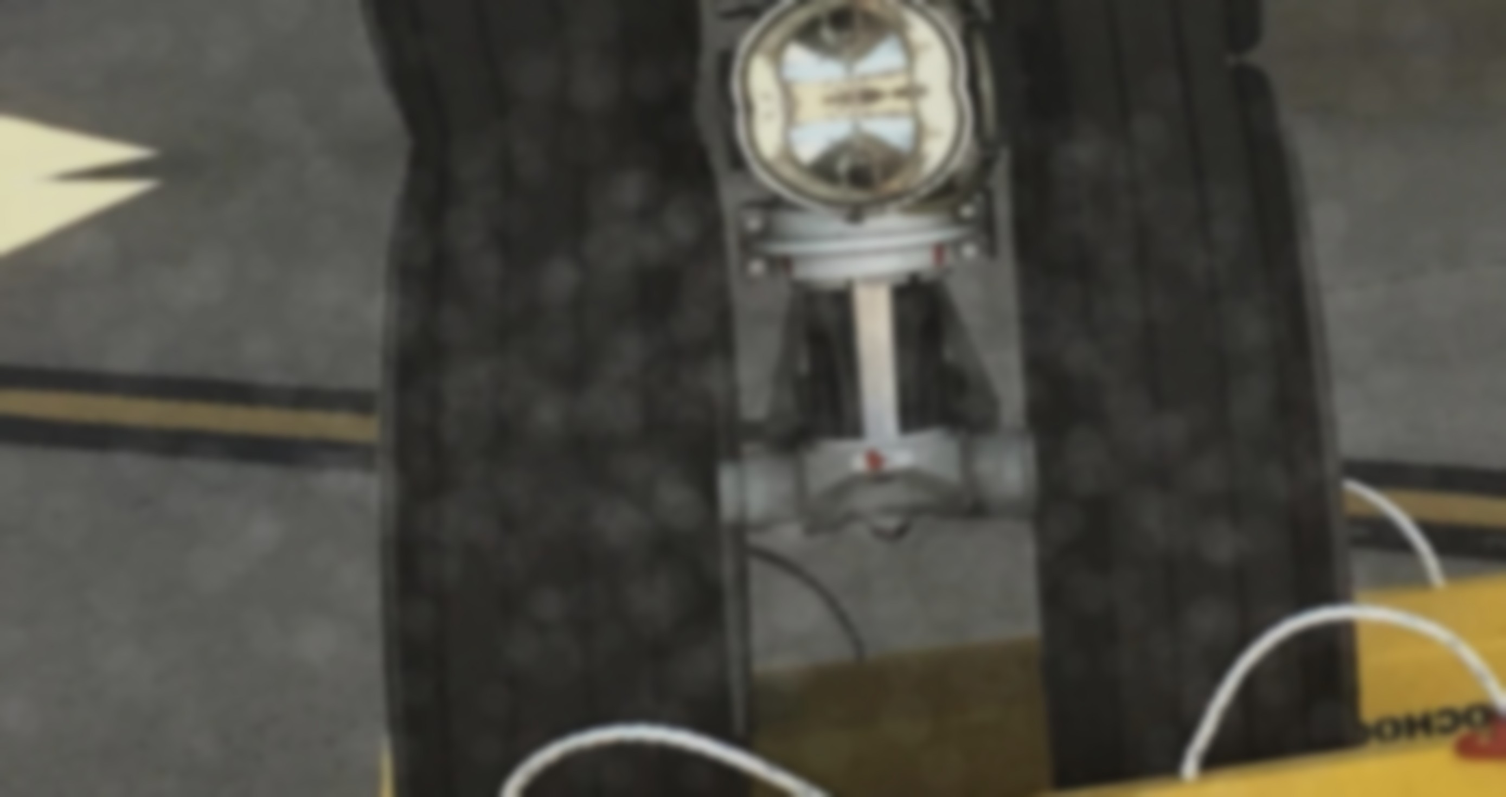chock: (359, 480, 1506, 797), (280, 611, 1506, 797)
wheel: (307, 82, 807, 797), (974, 23, 1391, 797), (247, 0, 722, 176)
